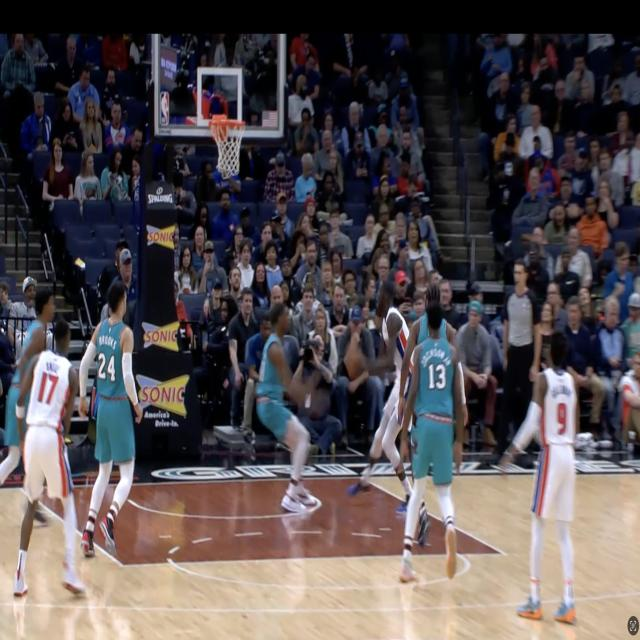no foul: (403, 288, 462, 599), (365, 275, 414, 513)
